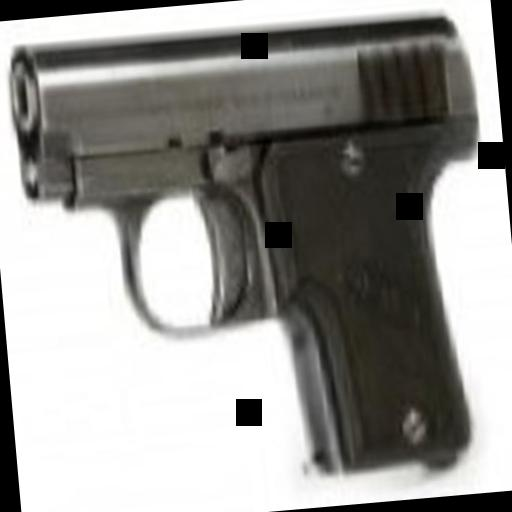Handgun: (4, 0, 510, 508)
